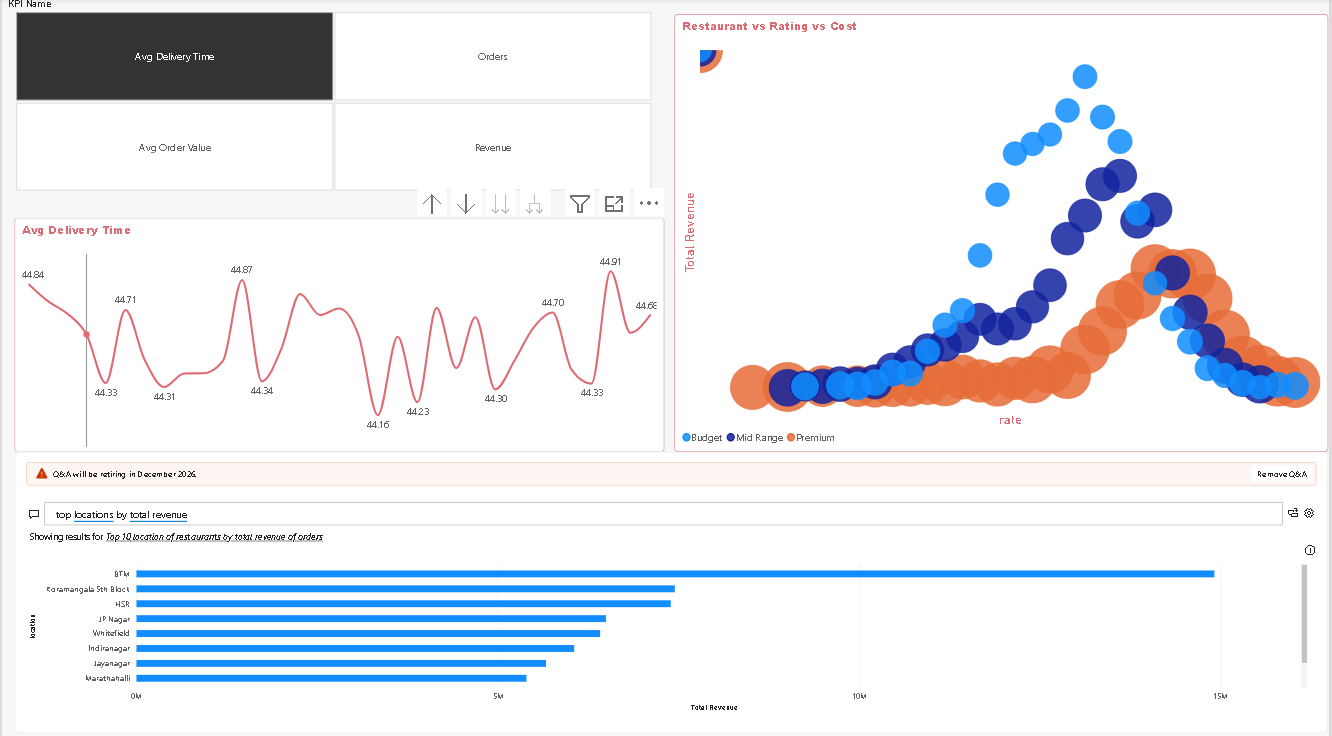

The page's visual inventory and layout, read from the dashboard file:
{"tool":"powerbi","page":{"name":"Advance Insights","canvas":[1920,1080],"ordinal":4},"visuals":[{"type":"slicer","fields":{"Values":["KPI.KPI Name"]},"box":[0,0,959.1,280.5],"z":0},{"type":"lineChart","fields":{"Category":["DateTable.Date.Variation.Date Hierarchy.Year","DateTable.Date.Variation.Date Hierarchy.Month"],"Y":["Customers.Selected KPI Value"]},"box":[18.1,318.5,941,338.4],"z":1000},{"type":"scatterChart","title":"Restaurant vs Rating vs Cost","fields":{"Y":["Orders.Total Revenue"],"X":["Restaurants.rate"],"Size":["Avg(Restaurants.CostForTwo)"],"Series":["Restaurants.Cost Bucket"]},"box":[973.6,23.5,946.5,633.4],"z":2000},{"type":"qnaVisual","box":[18.1,656.9,1902,407.2],"z":3000}]}

Visuals, with their boxes on the page's 1920x1080 design canvas (x1, y1, x2, y2). These are canvas units, not pixel positions in the 1332x736 screenshot, which may show the page scaled, cropped or inside an application window:
slicer - KPI.KPI Name: left=0, top=0, right=959, bottom=280
lineChart - DateTable.Date.Variation.Date Hierarchy.Year x DateTable.Date.Variation.Date Hierarchy.Month: left=18, top=318, right=959, bottom=657
"Restaurant vs Rating vs Cost" scatterChart: left=974, top=24, right=1920, bottom=657
qnaVisual: left=18, top=657, right=1920, bottom=1064
